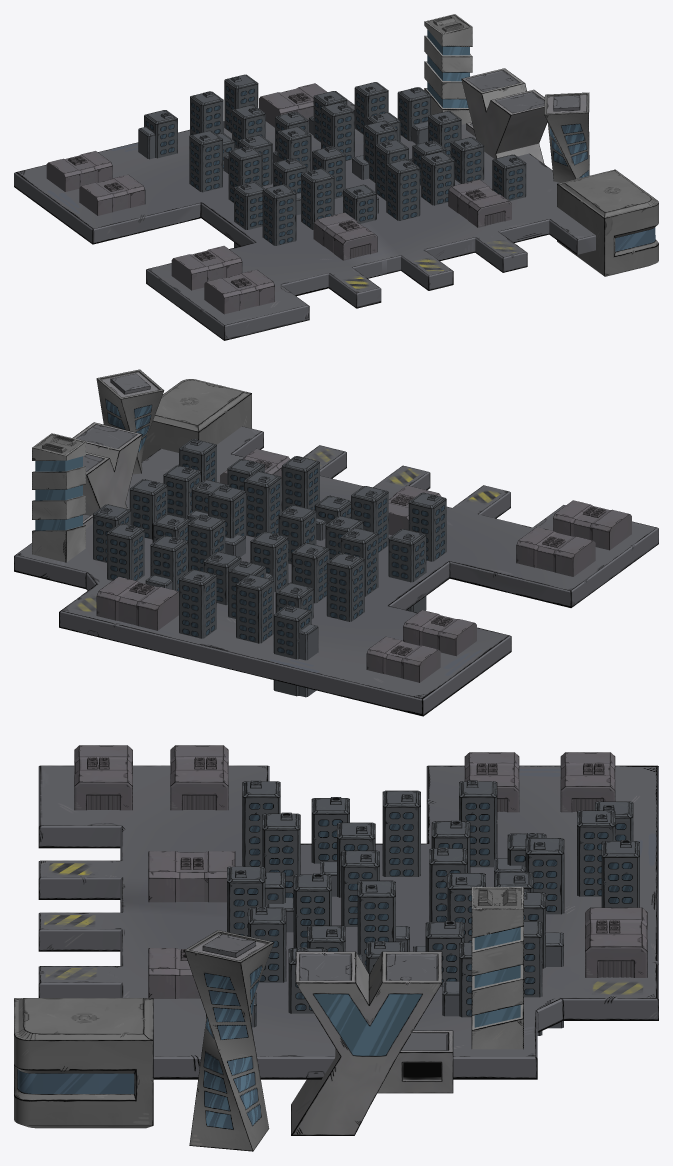
The model's file is spaceport_33.gltf.
3 views of the same model, one above another, from view 1: azimuth 30°, elevation 25°; view 2: azimuth 150°, elevation 25°; view 3: azimuth 270°, elevation 25° (orthographic). The views are drawn at different scales.
Parts seen in each view (by area): view 1: spaceport; view 2: spaceport; view 3: spaceport.
Boxes of the visible parts, x1=… form: spaceport: x1=14, y1=14, x2=658, y2=340; spaceport: x1=14, y1=369, x2=658, y2=716; spaceport: x1=14, y1=745, x2=658, y2=1151.
Bounding box in the file's own units: 15.7 × 5.07 × 13.55.
9 materials, 9 textured.
